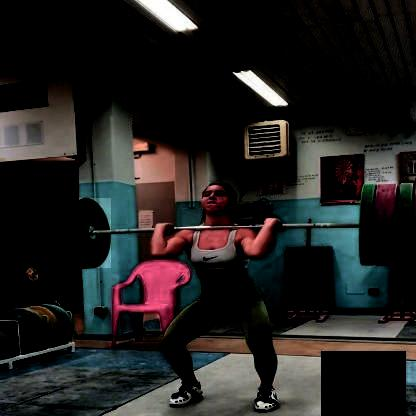barbell: (67, 199, 112, 269)
